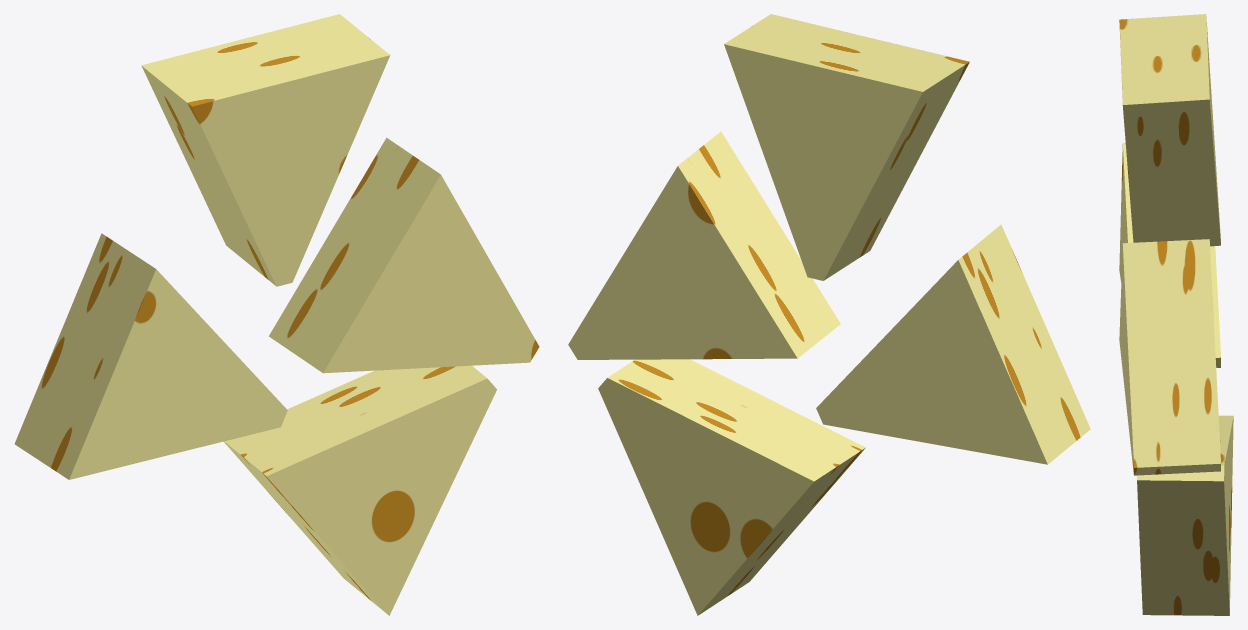
Rendered from CutCheese.fbx.
The picture shows the model from 3 angles, left to right: view 1: azimuth 30°, elevation 25°; view 2: azimuth 150°, elevation 25°; view 3: azimuth 270°, elevation 25°; orthographic projection. The views are drawn at different scales.
Visible parts, largest first — view 1: Cutcheese; view 2: Cutcheese; view 3: Cutcheese.
Part boxes in pixels (bbox=[...]): Cutcheese: bbox=[14, 14, 539, 615]; Cutcheese: bbox=[568, 14, 1090, 615]; Cutcheese: bbox=[1119, 14, 1233, 615].
Size of the model in its own units: 0.5475 by 0.6234 by 0.1265.
1 material, 1 textured.
